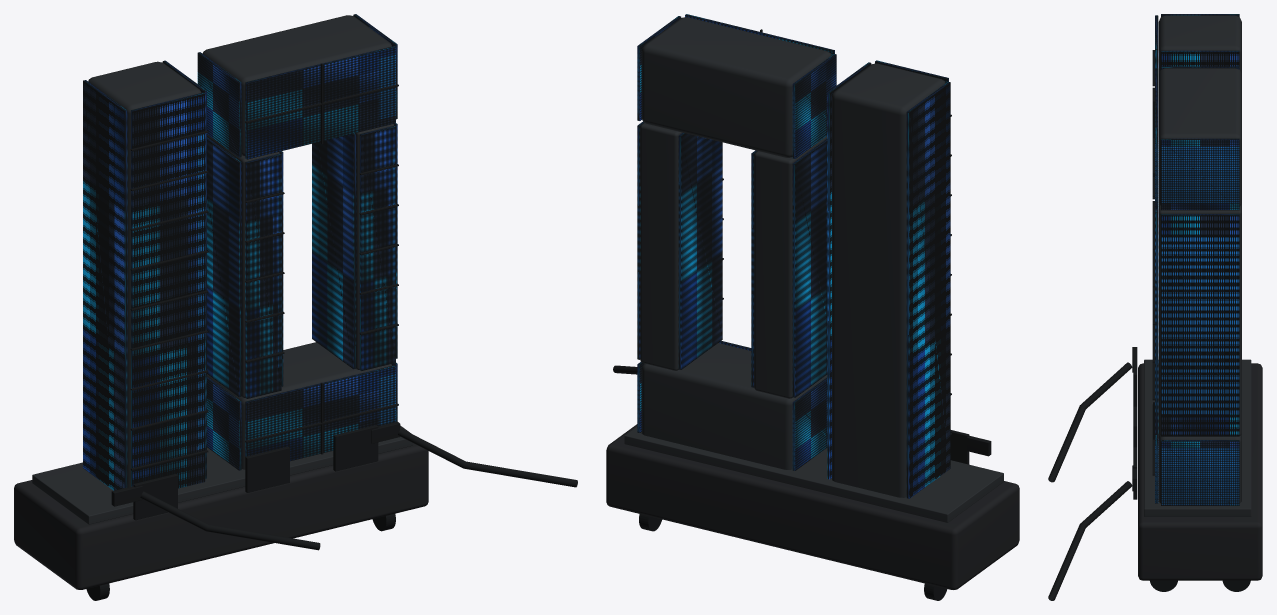
Rendered from signage-10.glb.
The picture shows the model from 3 angles, left to right: view 1: azimuth 30°, elevation 25°; view 2: azimuth 150°, elevation 25°; view 3: azimuth 270°, elevation 25°; orthographic projection. The views are drawn at different scales.
Visible parts, largest first — view 1: 10 one type tower front LED, 10 rental steel base, 10 one type tower left LED return, 10 zero top bar front LED, 10 zero right upright left LED return, 10 zero bottom bar front LED, 10 zero left upright front LED, 10 zero right upright front LED, 10 zero left upright left LED return, 10 zero top bar body, 10 rental top service plate, 10 one type tower body (+11 smaller); view 2: 10 one type tower body, 10 rental steel base, 10 zero top bar body, 10 one type tower left LED return, 10 zero bottom bar body, 10 zero right upright left LED return, 10 zero left upright body, 10 zero right upright body, 10 zero left upright left LED return, 10 rental top service plate, 10 zero top bar left LED return, 10 zero bottom bar left LED return (+5 smaller); view 3: 10 zero right upright right LED return, 10 rental steel base, 10 zero top bar body, 10 zero top bar right LED return, 10 zero bottom bar right LED return, 10 rental top service plate, 10 one type tower body, 10 zero right upright body, 10 one type tower right LED return, 10 right side main power loose power cable, 10 left side main power loose power cable, 10 zero right upright front LED (+2 smaller).
Boxes of the visible parts, <box> form: 10 one type tower front LED: <box>131,92,205,488</box>; 10 rental steel base: <box>14,425,428,589</box>; 10 one type tower left LED return: <box>83,80,127,490</box>; 10 zero top bar front LED: <box>245,46,395,159</box>; 10 zero right upright left LED return: <box>312,133,356,369</box>; 10 zero bottom bar front LED: <box>245,365,395,461</box>; 10 zero left upright front LED: <box>245,153,281,398</box>; 10 zero right upright front LED: <box>359,125,395,370</box>; 10 zero left upright left LED return: <box>207,137,241,396</box>; 10 zero top bar body: <box>202,15,391,155</box>; 10 rental top service plate: <box>32,428,412,524</box>; 10 one type tower body: <box>88,61,201,487</box>; 10 one type tower body: <box>832,63,945,497</box>; 10 rental steel base: <box>606,424,1019,589</box>; 10 zero top bar body: <box>641,17,831,157</box>; 10 one type tower left LED return: <box>906,81,950,498</box>; 10 zero bottom bar body: <box>641,343,827,469</box>; 10 zero right upright left LED return: <box>678,132,722,369</box>; 10 zero left upright body: <box>754,136,827,398</box>; 10 zero right upright body: <box>640,122,682,370</box>; 10 zero left upright left LED return: <box>792,138,827,397</box>; 10 rental top service plate: <box>624,426,1003,522</box>; 10 zero top bar left LED return: <box>792,54,836,158</box>; 10 zero bottom bar left LED return: <box>792,377,827,470</box>; 10 zero right upright right LED return: <box>1161,214,1239,436</box>; 10 rental steel base: <box>1138,363,1262,580</box>; 10 zero top bar body: <box>1158,68,1241,206</box>; 10 zero top bar right LED return: <box>1161,138,1239,210</box>; 10 zero bottom bar right LED return: <box>1161,440,1239,505</box>; 10 rental top service plate: <box>1144,359,1251,516</box>; 10 one type tower body: <box>1158,15,1241,73</box>; 10 zero right upright body: <box>1158,203,1241,435</box>; 10 one type tower right LED return: <box>1161,50,1239,66</box>; 10 right side main power loose power cable: <box>1048,481,1132,600</box>; 10 left side main power loose power cable: <box>1048,362,1132,482</box>; 10 zero right upright front LED: <box>1155,209,1158,434</box>.
Bounding box in the file's own units: 1.91 × 1.95 × 0.825.
Materials: 4 (1 with a texture image).
